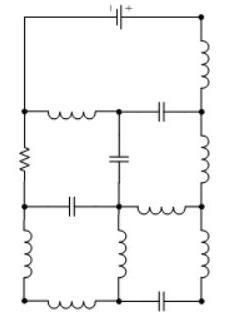inductor: (31, 95, 102, 131), (40, 287, 111, 314), (189, 121, 222, 179), (126, 195, 190, 223), (190, 33, 217, 91), (105, 223, 132, 278), (194, 217, 216, 279), (16, 222, 37, 285)
